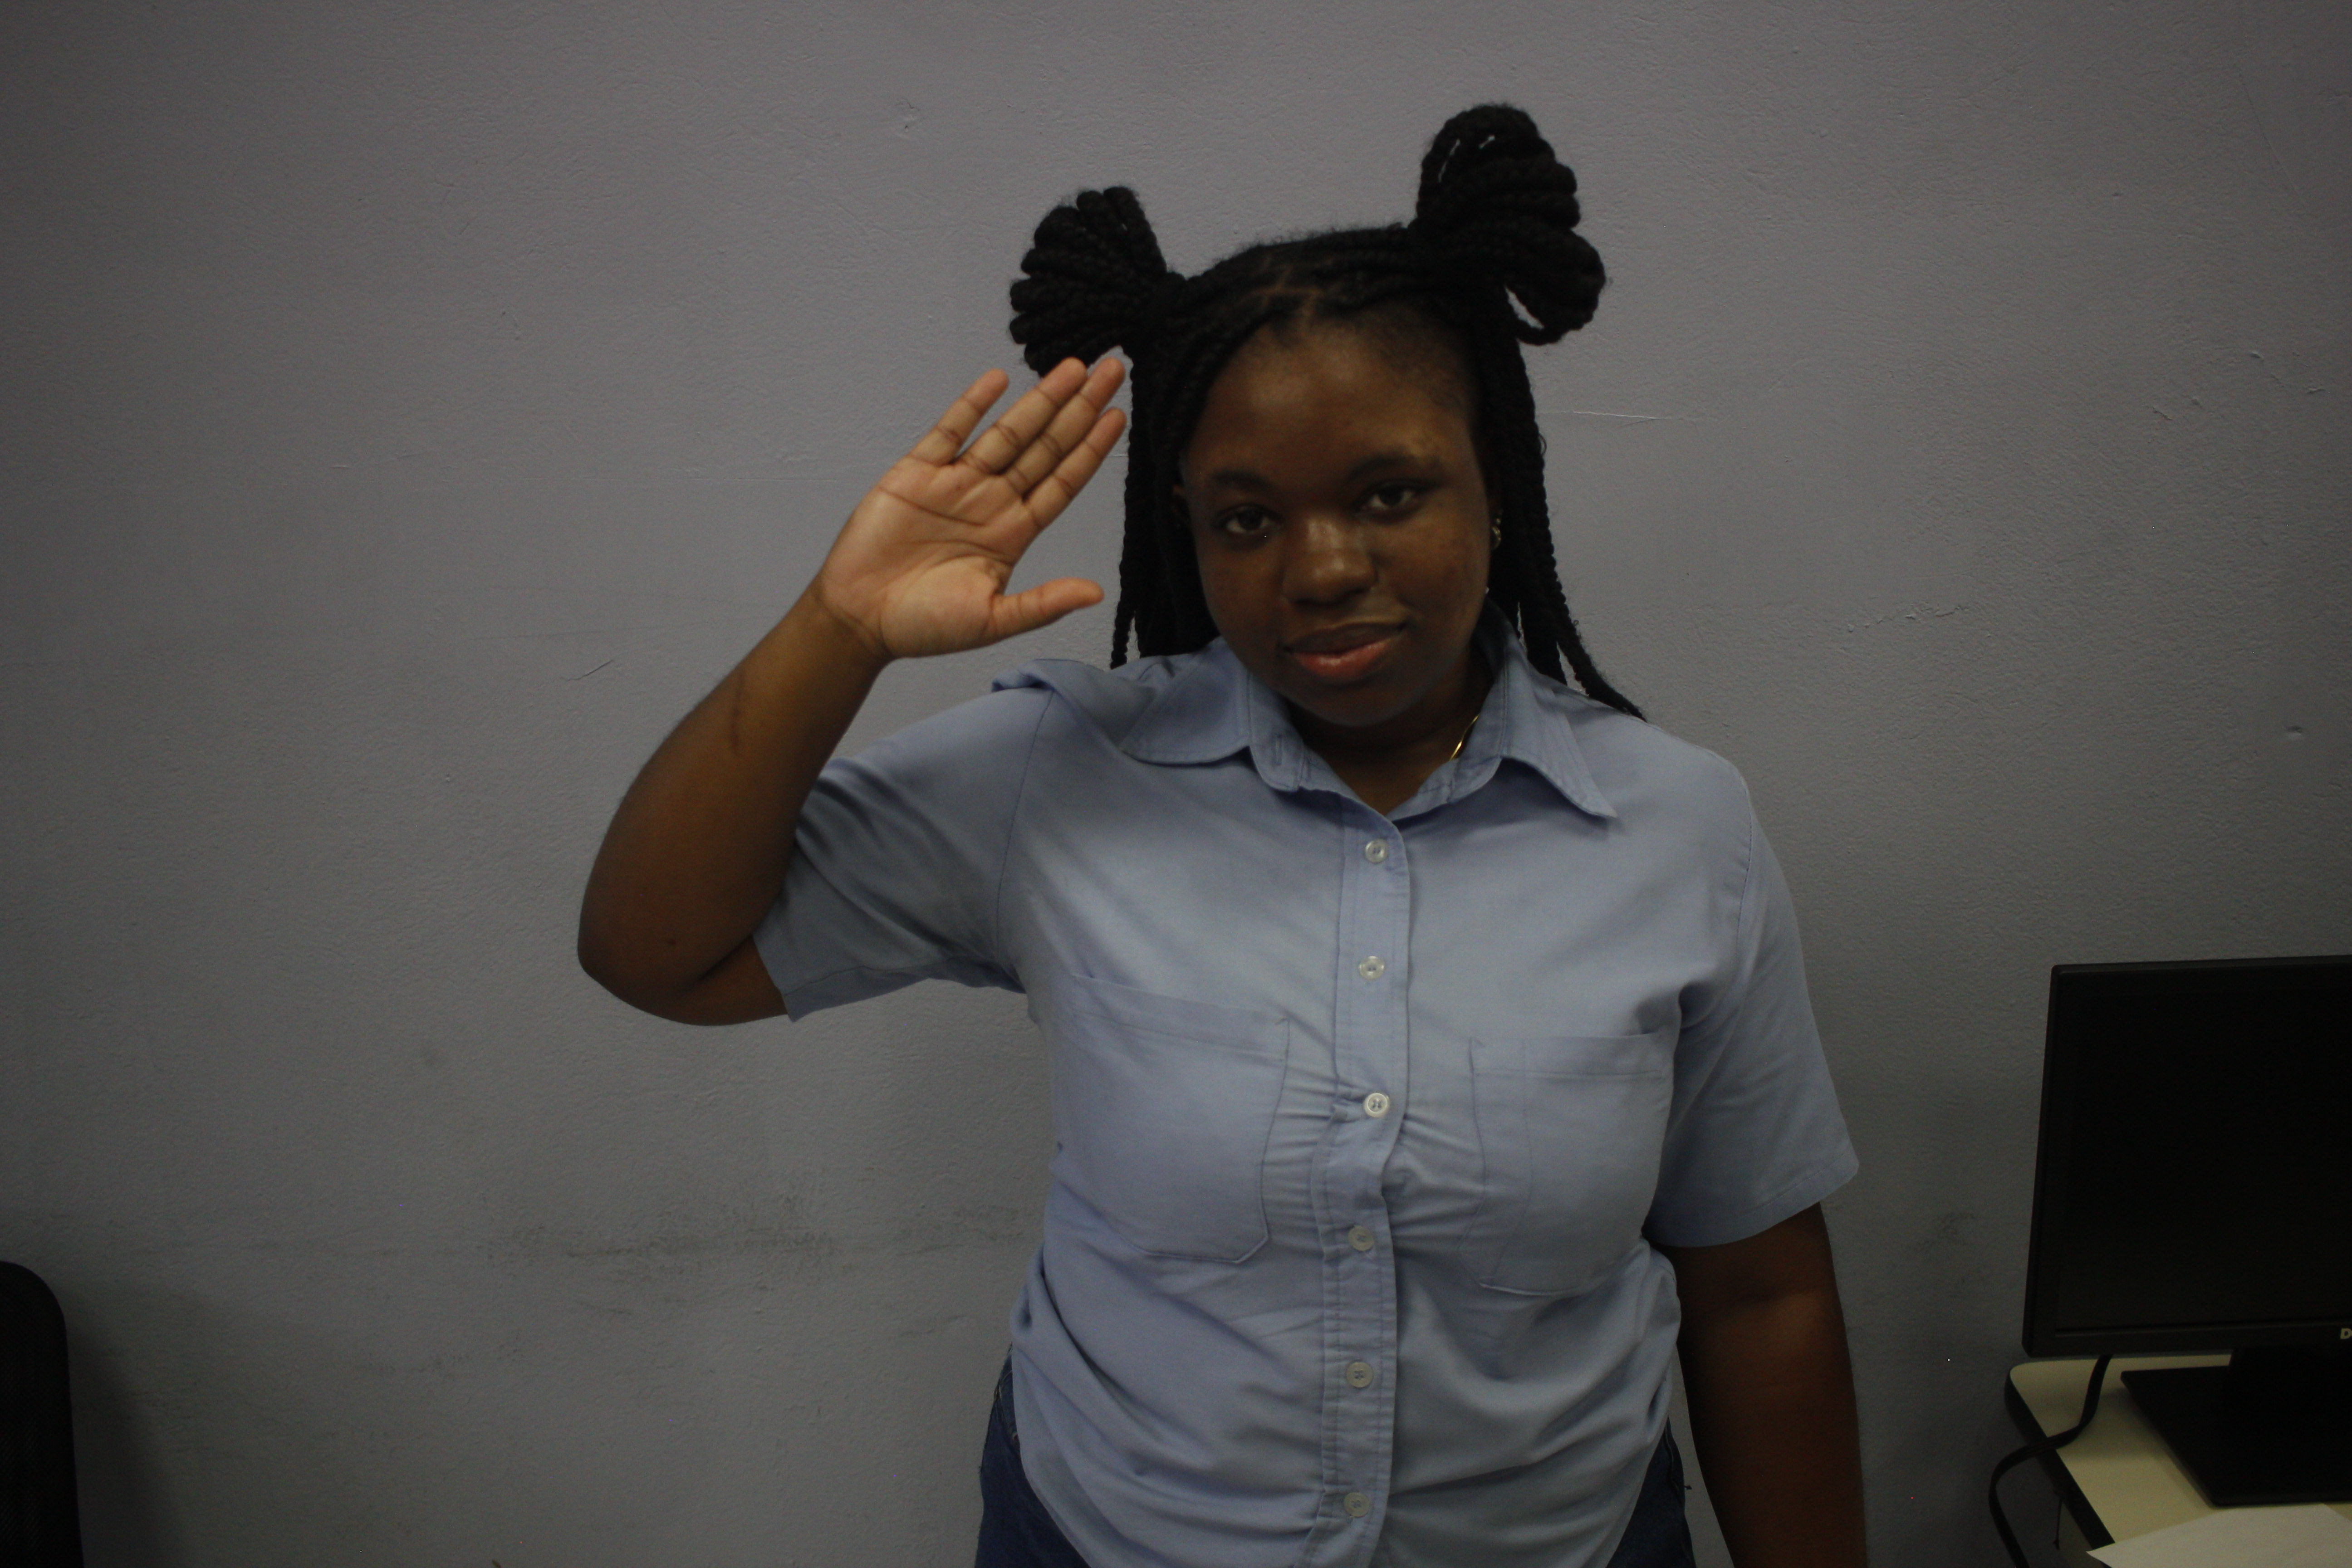hi: (807, 347, 1134, 670)
